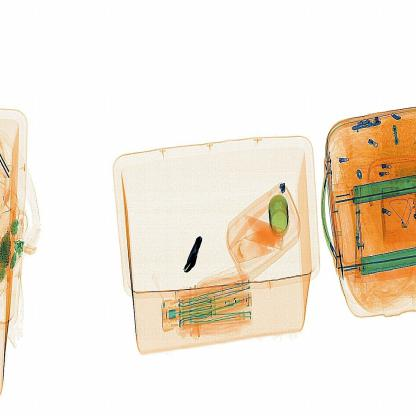knife: (183, 236, 203, 276)
